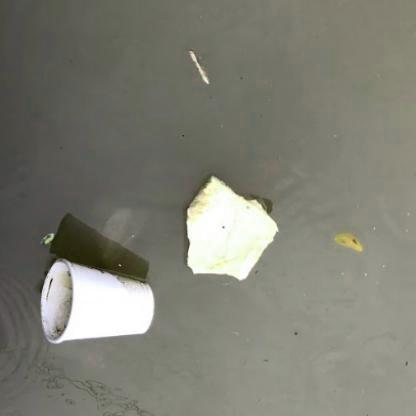Plastic: (37, 259, 156, 348)
Trash: (183, 175, 278, 282)
